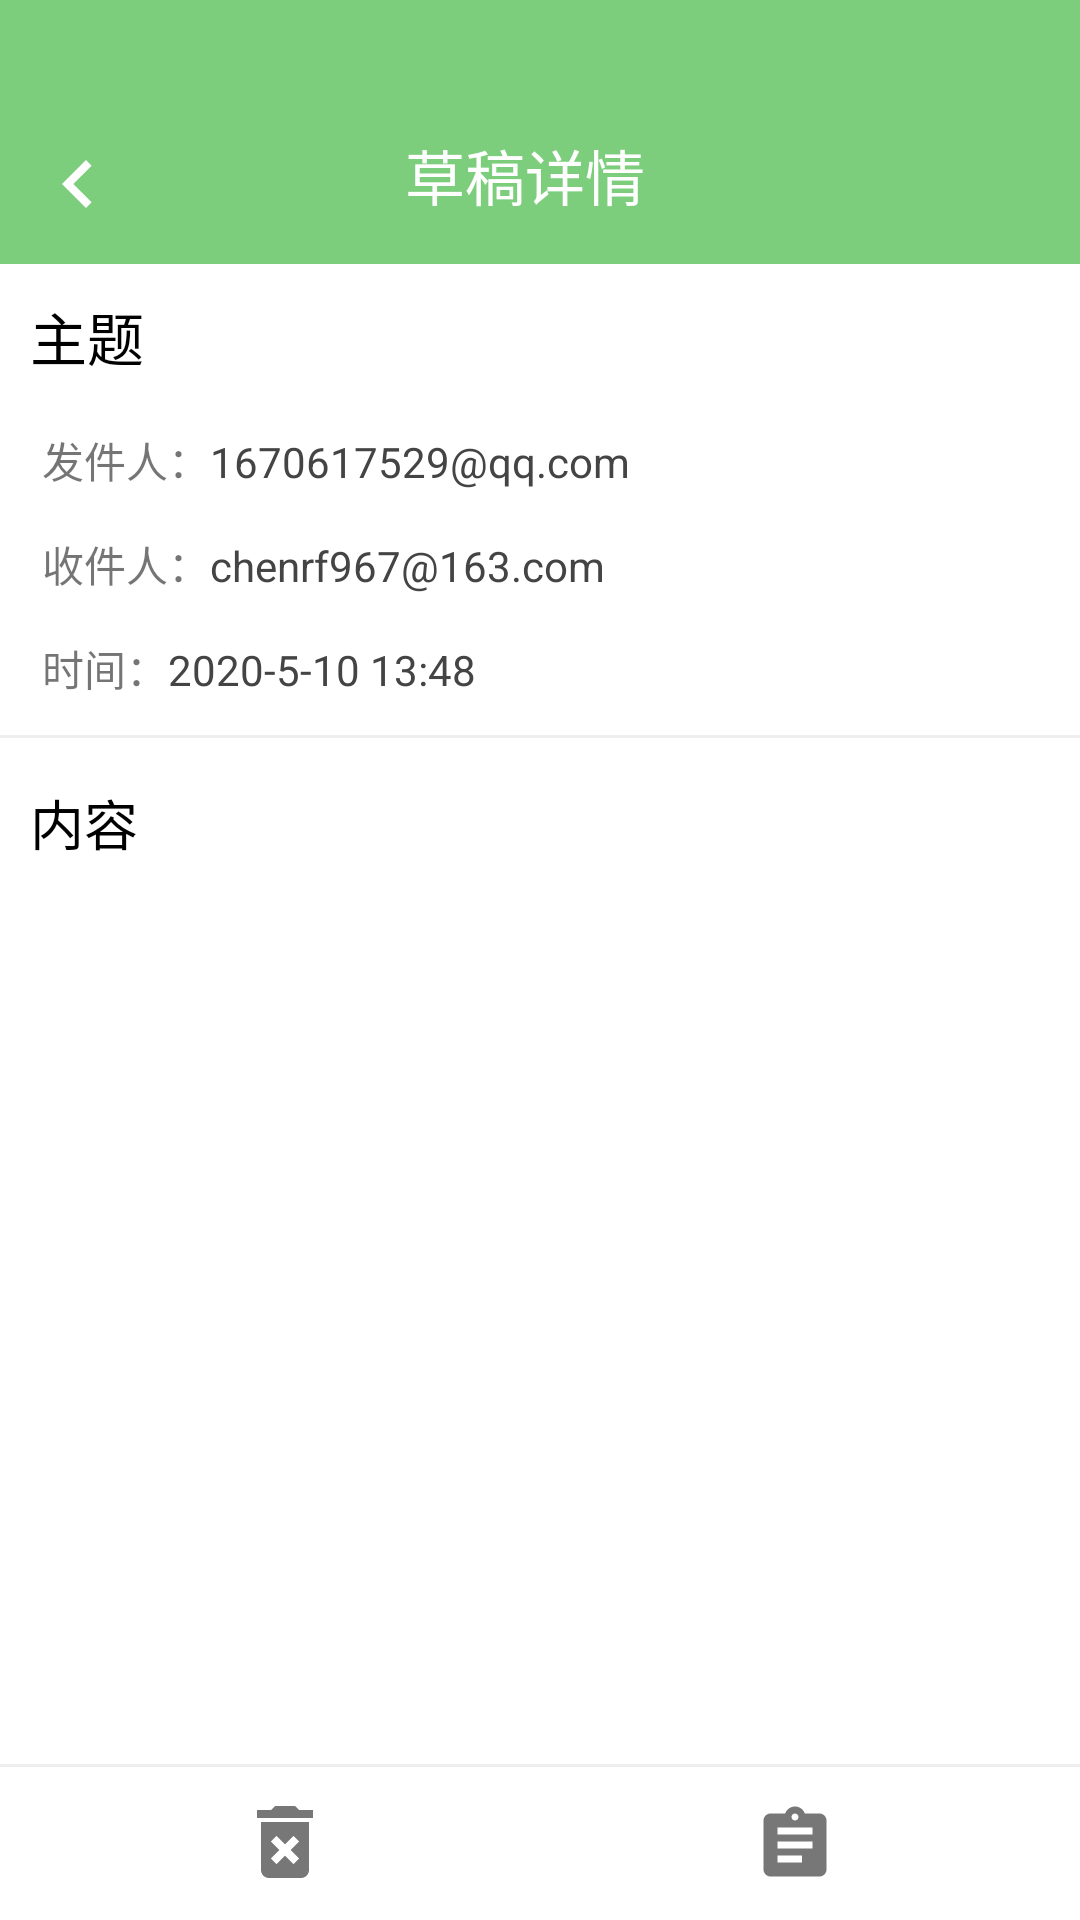

Screen size 1080 × 1920. Icon name, then its box in pixels as rect(x1, y1, x2, y2):
assignment: rect(763, 1806, 827, 1877)
delete forever: rect(257, 1806, 313, 1878)
keyboard arrow left: rect(62, 160, 92, 208)
